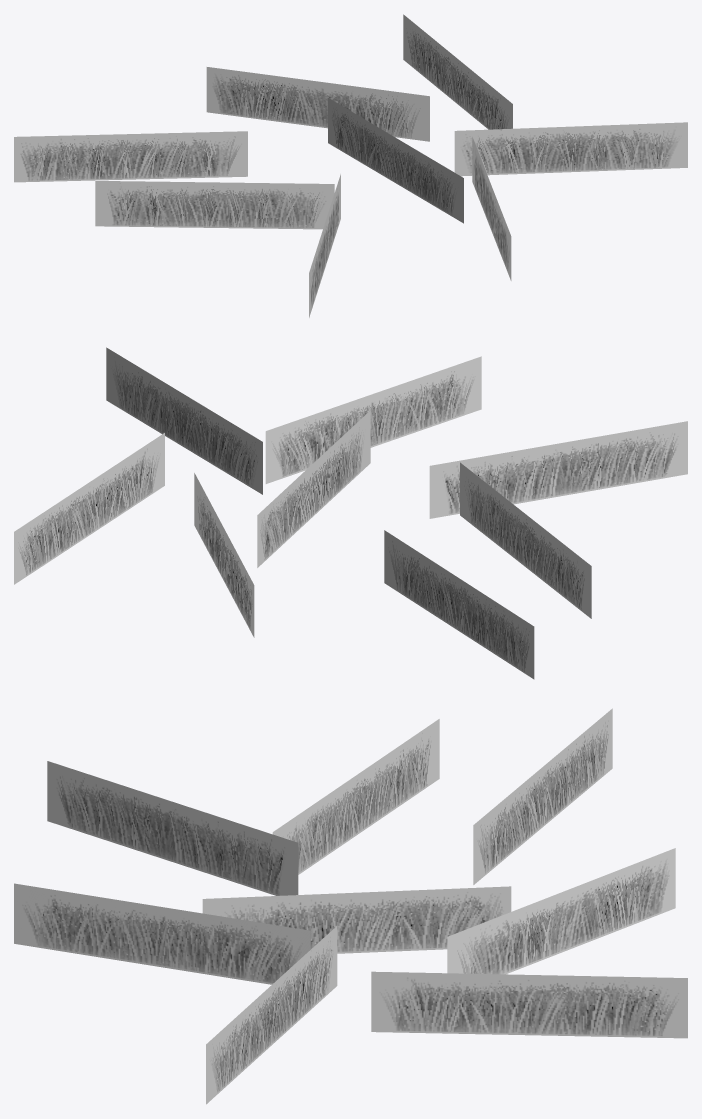
Rendered from SM_Grass.fbx.
The picture shows the model from 3 angles, top to bottom: view 1: azimuth 30°, elevation 25°; view 2: azimuth 150°, elevation 25°; view 3: azimuth 270°, elevation 25°; orthographic projection. The views are drawn at different scales.
Parts seen in each view (by area): view 1: transform2; view 2: transform2; view 3: transform2.
Boxes of the visible parts, <box> form: transform2: <box>14,14,687,317</box>; transform2: <box>14,347,687,679</box>; transform2: <box>14,708,687,1104</box>.
Bounding box in the file's own units: 5.41 × 0.4522 × 4.58.
Materials: 1 (1 with a texture image).
